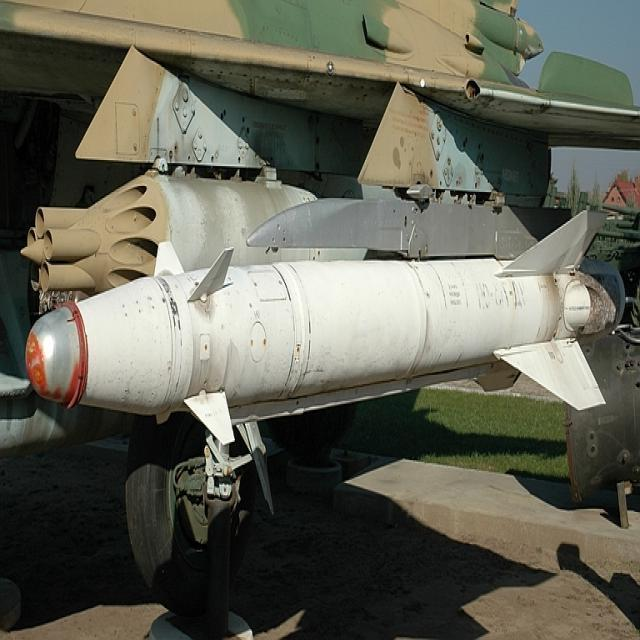missile: (28, 207, 612, 418)
